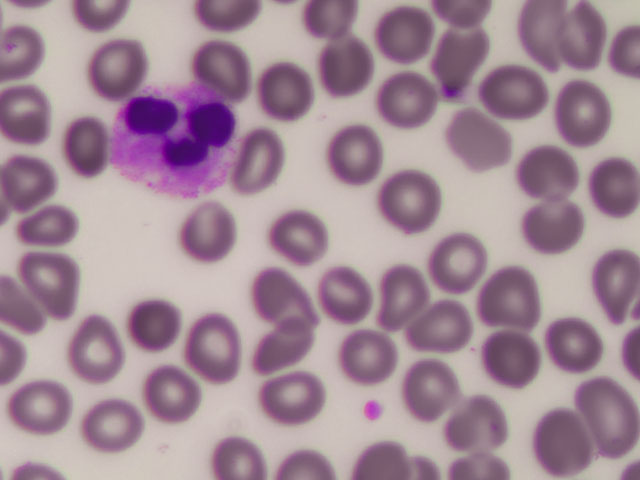Platelets: (361, 400, 381, 419)
RBC: (370, 428, 430, 480), (449, 428, 509, 480), (86, 41, 146, 92), (8, 84, 68, 135), (67, 123, 127, 174), (1, 149, 61, 200), (22, 204, 82, 255), (22, 239, 82, 290), (69, 326, 129, 377), (118, 305, 178, 356), (147, 368, 207, 419), (97, 401, 157, 452), (15, 382, 75, 433), (181, 322, 241, 373), (181, 207, 241, 258), (234, 134, 294, 185), (260, 65, 320, 116), (181, 37, 241, 88), (325, 39, 385, 90), (306, 6, 366, 57), (382, 6, 442, 57), (422, 31, 482, 82), (383, 69, 443, 120), (325, 129, 385, 180), (378, 177, 438, 228), (450, 121, 510, 172), (476, 65, 536, 116), (547, 82, 607, 133), (561, 8, 621, 59), (527, 1, 587, 52), (580, 163, 640, 214), (509, 200, 569, 251), (524, 153, 584, 204), (426, 234, 486, 285), (379, 272, 439, 323), (328, 270, 388, 321), (244, 267, 304, 318), (268, 212, 328, 263), (250, 321, 310, 372), (271, 366, 331, 417), (222, 428, 282, 479), (453, 395, 513, 446), (405, 364, 465, 415), (419, 307, 479, 358), (485, 271, 545, 322), (340, 329, 400, 380), (484, 334, 544, 385), (543, 316, 603, 367), (571, 382, 631, 433), (531, 417, 591, 468), (580, 253, 640, 304)
WBC: (109, 80, 239, 197)
